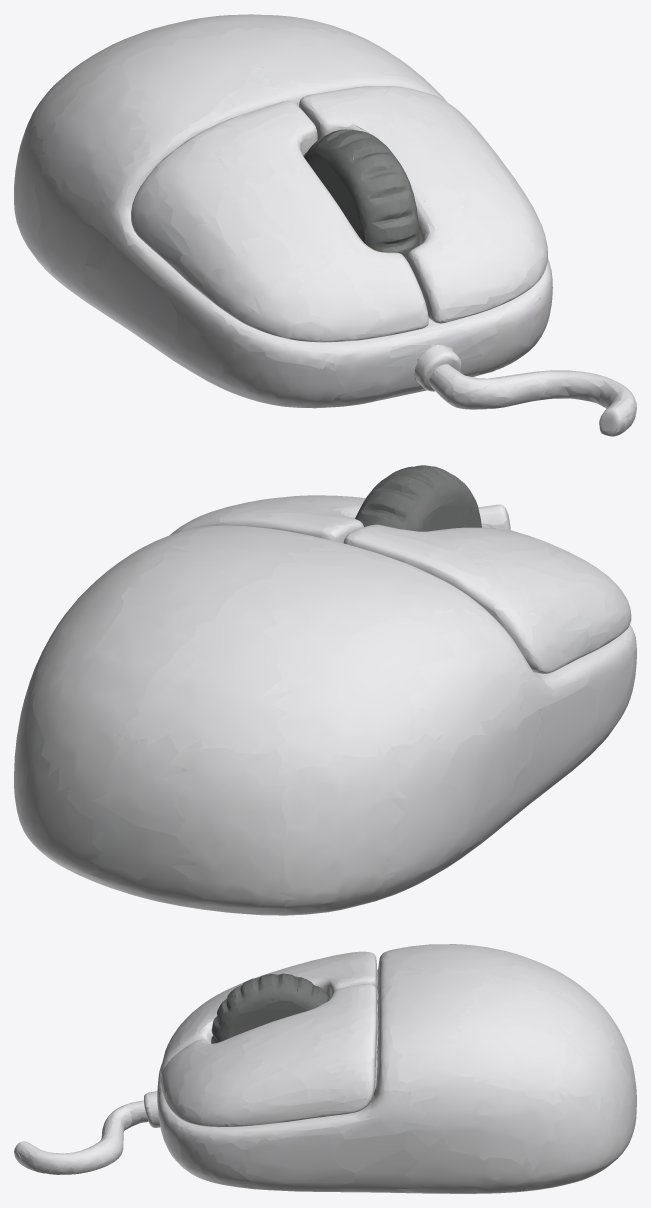
File: computermuis.glb
3 views of the same model, one above another, from view 1: azimuth 30°, elevation 25°; view 2: azimuth 150°, elevation 25°; view 3: azimuth 270°, elevation 25° (orthographic). The views are drawn at different scales.
Parts seen in each view (by area): view 1: Mesh_0; view 2: Mesh_0; view 3: Mesh_0.
Boxes of the visible parts, x1,y1,x2,y2 form: Mesh_0: (14,14,636,436); Mesh_0: (14,465,636,915); Mesh_0: (14,944,636,1193).
Bounding box in the file's own units: 0.9903 × 0.5408 × 1.9.
1 material, 1 textured.
